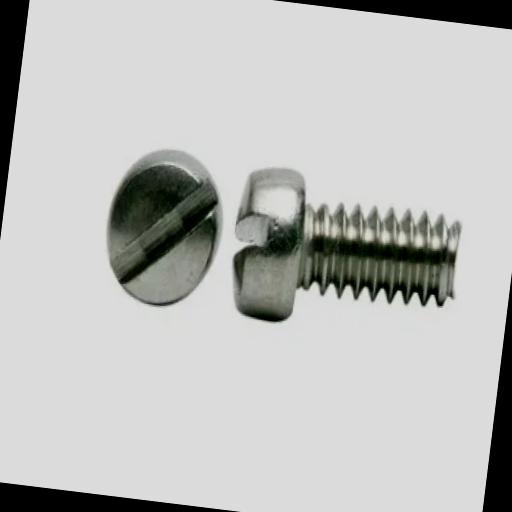Slotted: (96, 143, 229, 314)
